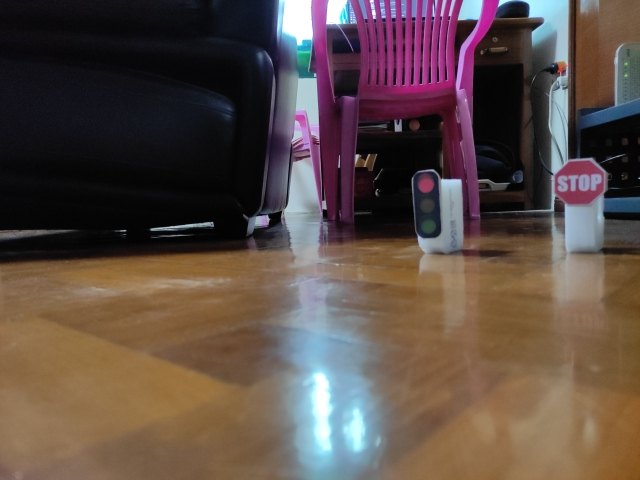Red Traffic Light: (411, 170, 442, 238)
Stop Sign: (554, 158, 607, 207)
